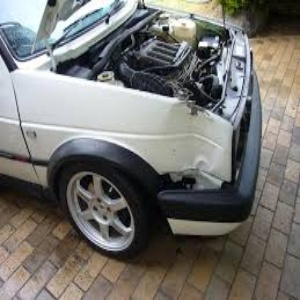bumper: (155, 100, 240, 191)
